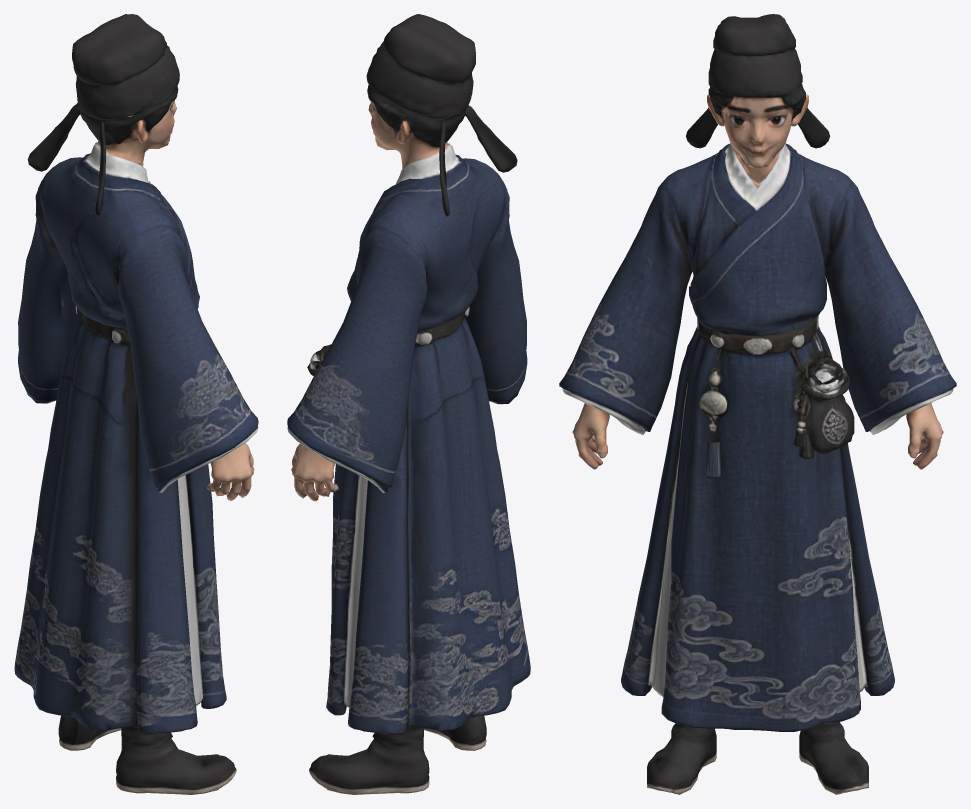
Rendered from buyer.glb.
3 renders of one model, left to right at view 1: azimuth 30°, elevation 25°; view 2: azimuth 150°, elevation 25°; view 3: azimuth 270°, elevation 25°, orthographic. The views are drawn at different scales.
Visible parts, largest first — view 1: tripo_node_85921d36-6328-4869-9540-dbddeeae6ce5; view 2: tripo_node_85921d36-6328-4869-9540-dbddeeae6ce5; view 3: tripo_node_85921d36-6328-4869-9540-dbddeeae6ce5.
Boxes of the visible parts, x1,y1,x2,y2 form: tripo_node_85921d36-6328-4869-9540-dbddeeae6ce5: (14,14,258,794); tripo_node_85921d36-6328-4869-9540-dbddeeae6ce5: (287,14,530,794); tripo_node_85921d36-6328-4869-9540-dbddeeae6ce5: (559,14,956,794).
Bounding box in the file's own units: 0.2349 × 1 × 0.4794.
1 material, 1 textured.
